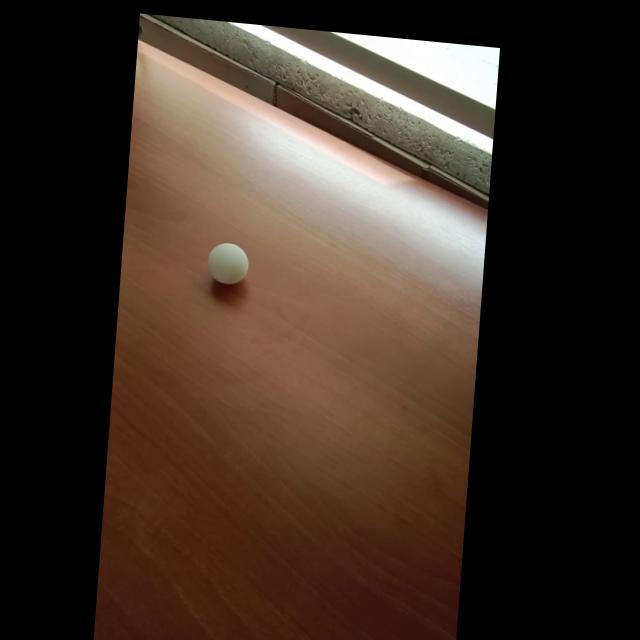white ball: (206, 241, 250, 287)
